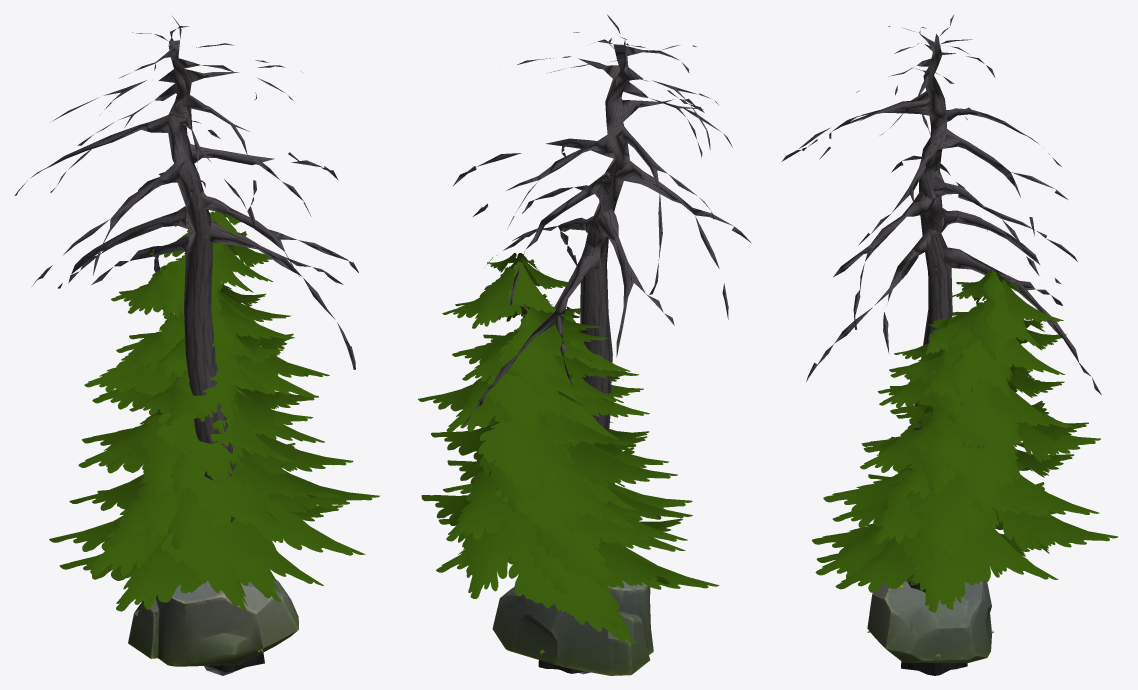
File: forest.glb
3 views of the same model, side by side, from view 1: azimuth 30°, elevation 25°; view 2: azimuth 150°, elevation 25°; view 3: azimuth 270°, elevation 25° (orthographic). The views are drawn at different scales.
Parts seen in each view (by area): view 1: Pine_5, Pine_2, DeadTree_3, Rock_Medium_2; view 2: Pine_5, DeadTree_3, Pine_2, Rock_Medium_2; view 3: Pine_5, DeadTree_3, Pine_2, Rock_Medium_2.
Part boxes in pixels (box(x1,y1,x2,y2)): Pine_5: box(49, 211, 379, 602); Pine_2: box(59, 293, 343, 611); DeadTree_3: box(14, 16, 358, 672); Rock_Medium_2: box(128, 578, 298, 666); Pine_5: box(418, 253, 701, 630); DeadTree_3: box(453, 14, 751, 673); Pine_2: box(436, 306, 719, 644); Rock_Medium_2: box(492, 580, 653, 675); Pine_5: box(816, 269, 1118, 612); DeadTree_3: box(781, 14, 1101, 675); Pine_2: box(812, 317, 1058, 609); Rock_Medium_2: box(867, 580, 991, 662).
Bounding box in the file's own units: 7.26 × 13.53 × 6.81.
Materials: 12 (12 with a texture image).
